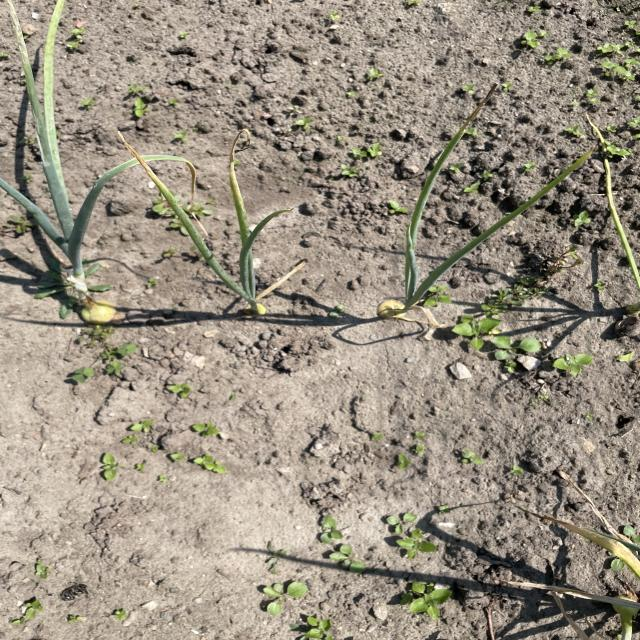Onion: (4, 147, 144, 332), (377, 173, 513, 318), (173, 171, 275, 318)
weed: (65, 341, 138, 392), (364, 425, 433, 469), (392, 503, 441, 560), (440, 311, 508, 349), (482, 333, 554, 367), (152, 194, 205, 237), (252, 579, 311, 616), (545, 348, 600, 387), (325, 541, 371, 580), (519, 29, 568, 58), (311, 515, 354, 547), (92, 450, 126, 486), (189, 452, 233, 478), (123, 95, 152, 128), (166, 380, 199, 408), (302, 615, 336, 640), (188, 420, 222, 440)
